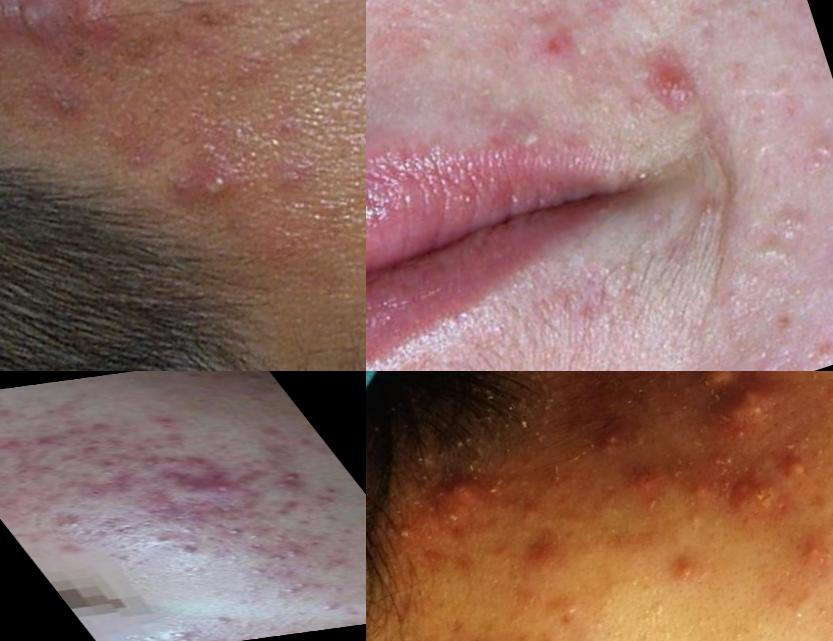cystic: (4, 1, 76, 54), (691, 372, 748, 401)
papular: (621, 20, 725, 125), (507, 32, 586, 89), (501, 524, 564, 588), (166, 467, 264, 506), (67, 475, 154, 504), (250, 467, 320, 495), (1, 461, 73, 486), (54, 419, 128, 443), (154, 452, 222, 478), (793, 531, 833, 575), (11, 434, 81, 458), (43, 511, 104, 536), (684, 476, 721, 513), (82, 456, 135, 479), (137, 411, 188, 431), (1, 432, 41, 457)
purulent: (172, 144, 249, 227), (777, 443, 818, 495), (670, 556, 707, 589), (398, 525, 413, 544)
sebo-crystan-conglo: (712, 372, 801, 449), (733, 465, 793, 531), (434, 465, 497, 526), (577, 416, 635, 479)
whitehead: (725, 181, 831, 276), (795, 109, 833, 169), (268, 572, 319, 596), (712, 446, 747, 479), (159, 521, 212, 537), (821, 281, 833, 342), (152, 627, 201, 641), (312, 597, 345, 617), (213, 524, 258, 538), (236, 530, 271, 546), (561, 602, 583, 625), (522, 1, 557, 15), (820, 610, 833, 641), (265, 553, 295, 565), (530, 632, 564, 641), (241, 567, 265, 578)
